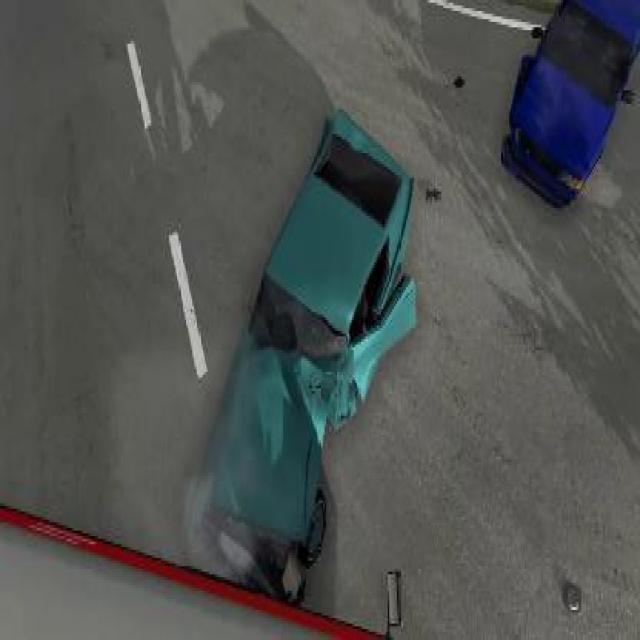accident: (1, 101, 432, 637)
